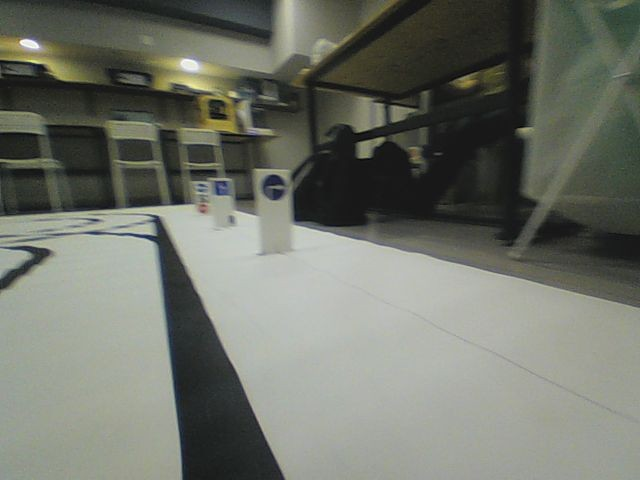Right: (260, 173, 287, 201)
